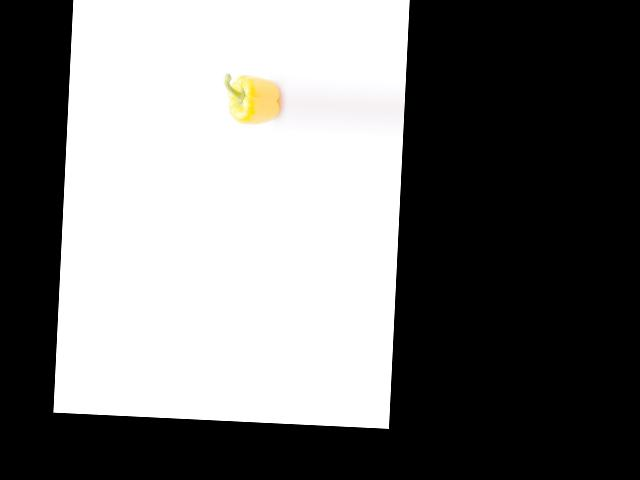bell_pepper: (224, 71, 282, 130)
